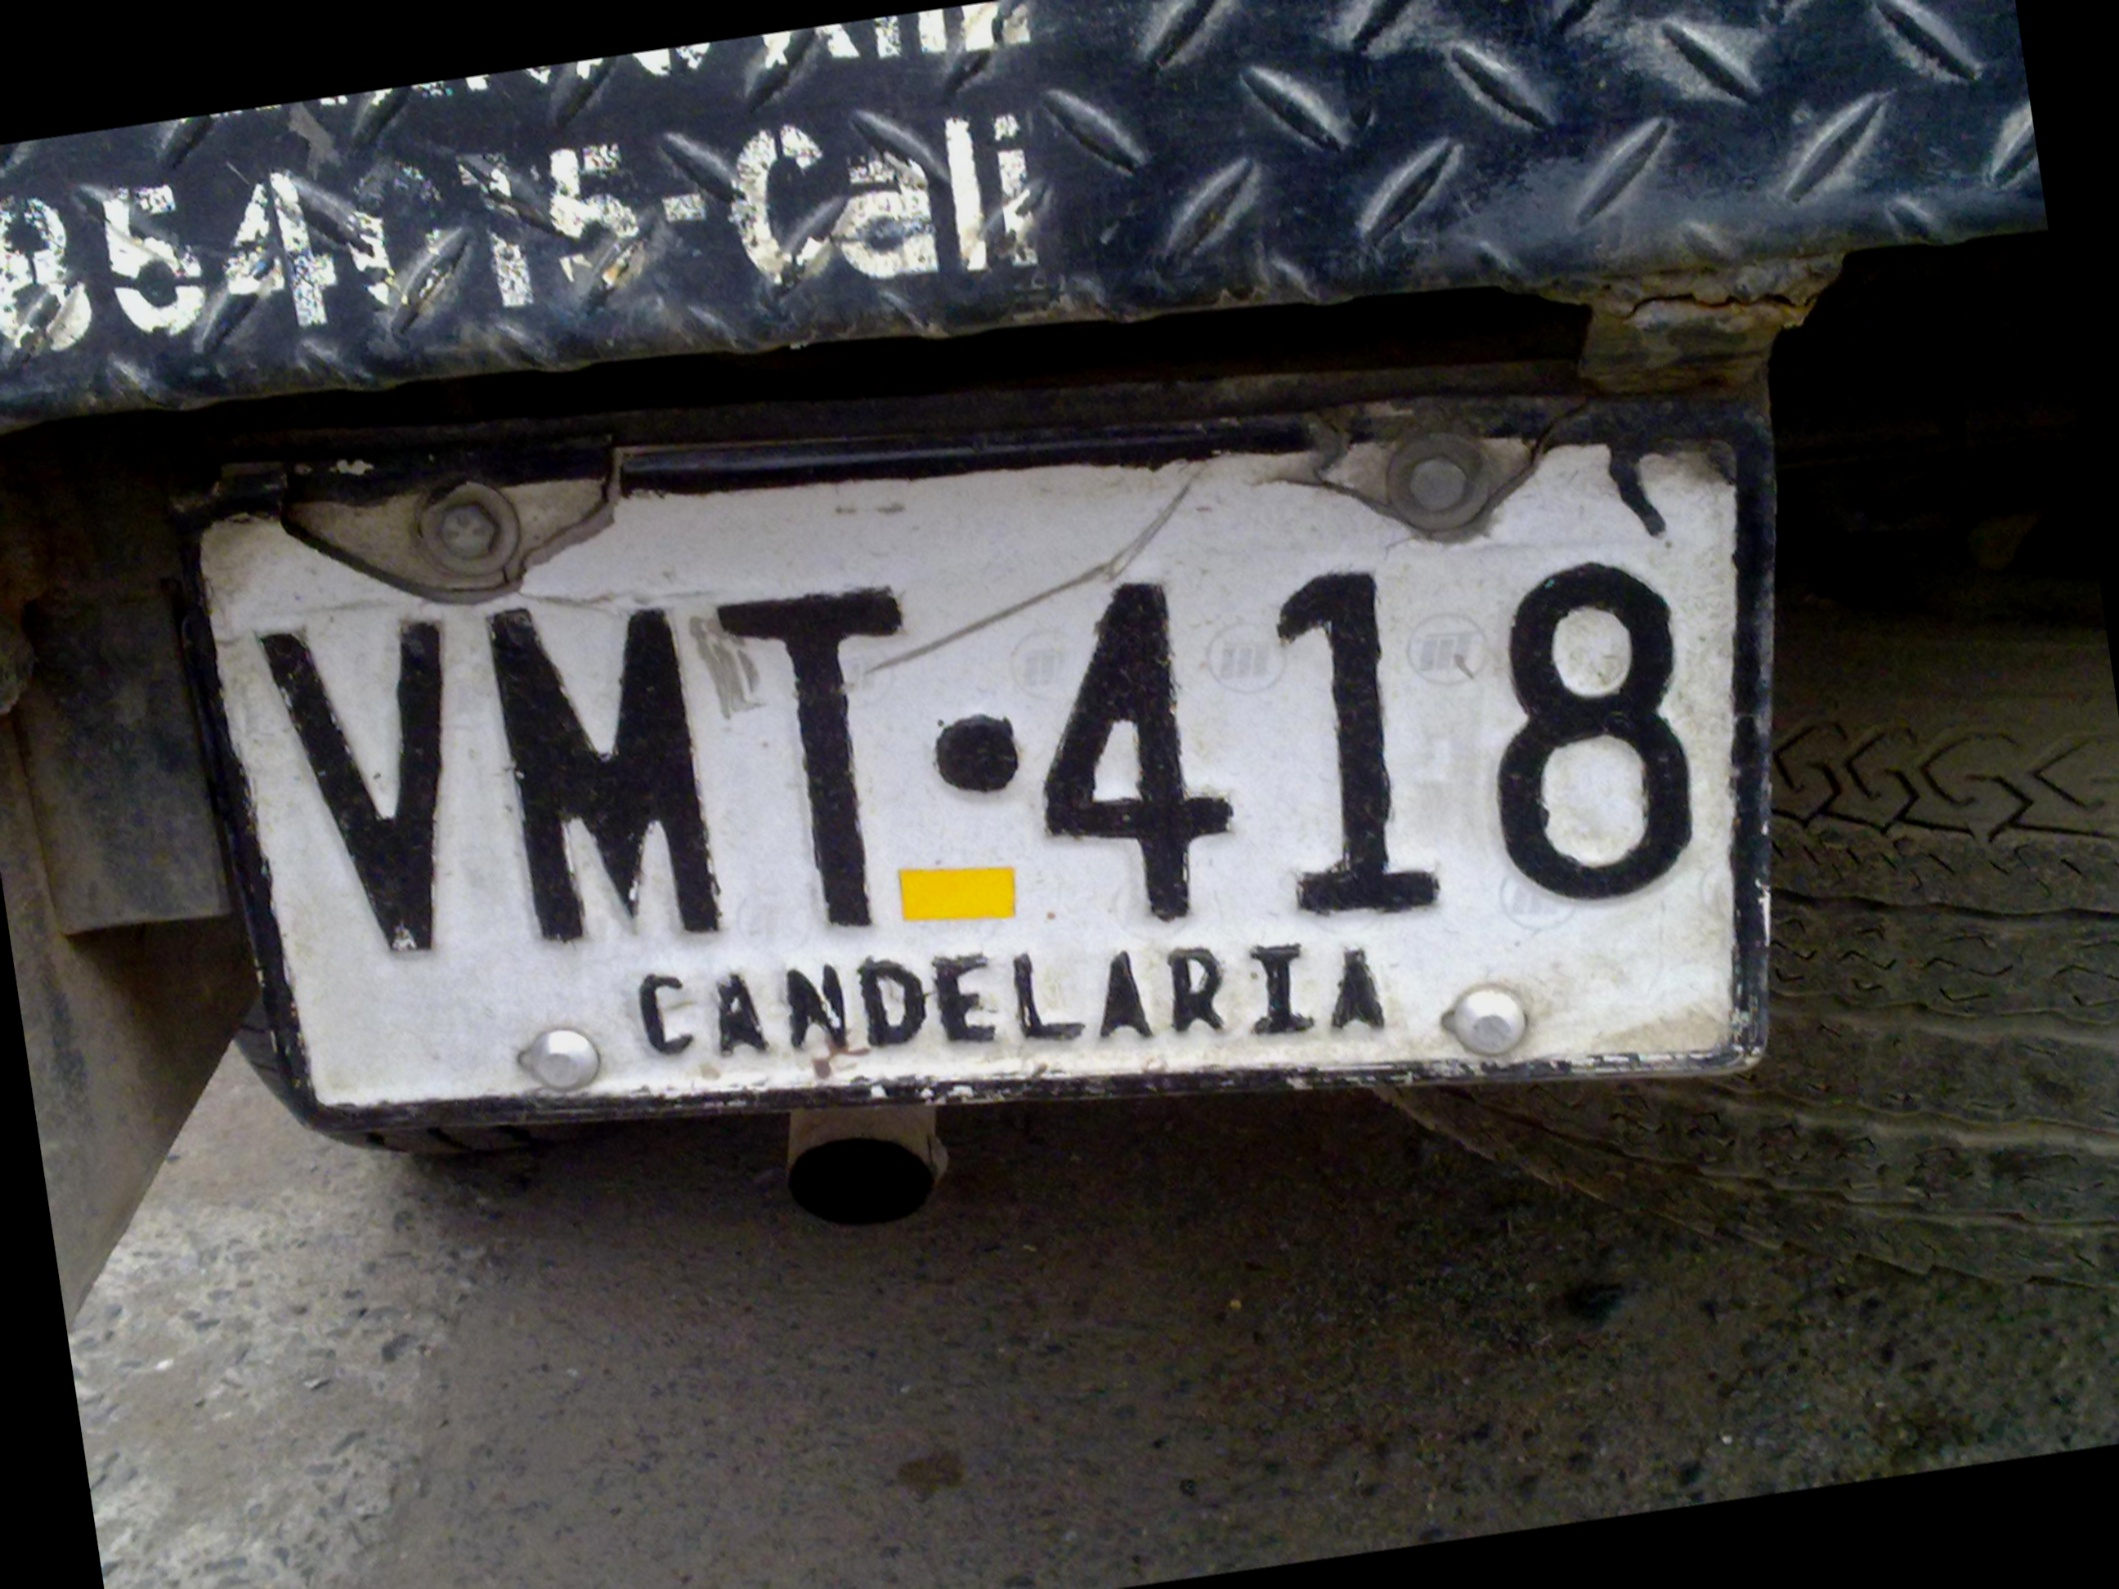placas: (149, 256, 1888, 1305)
